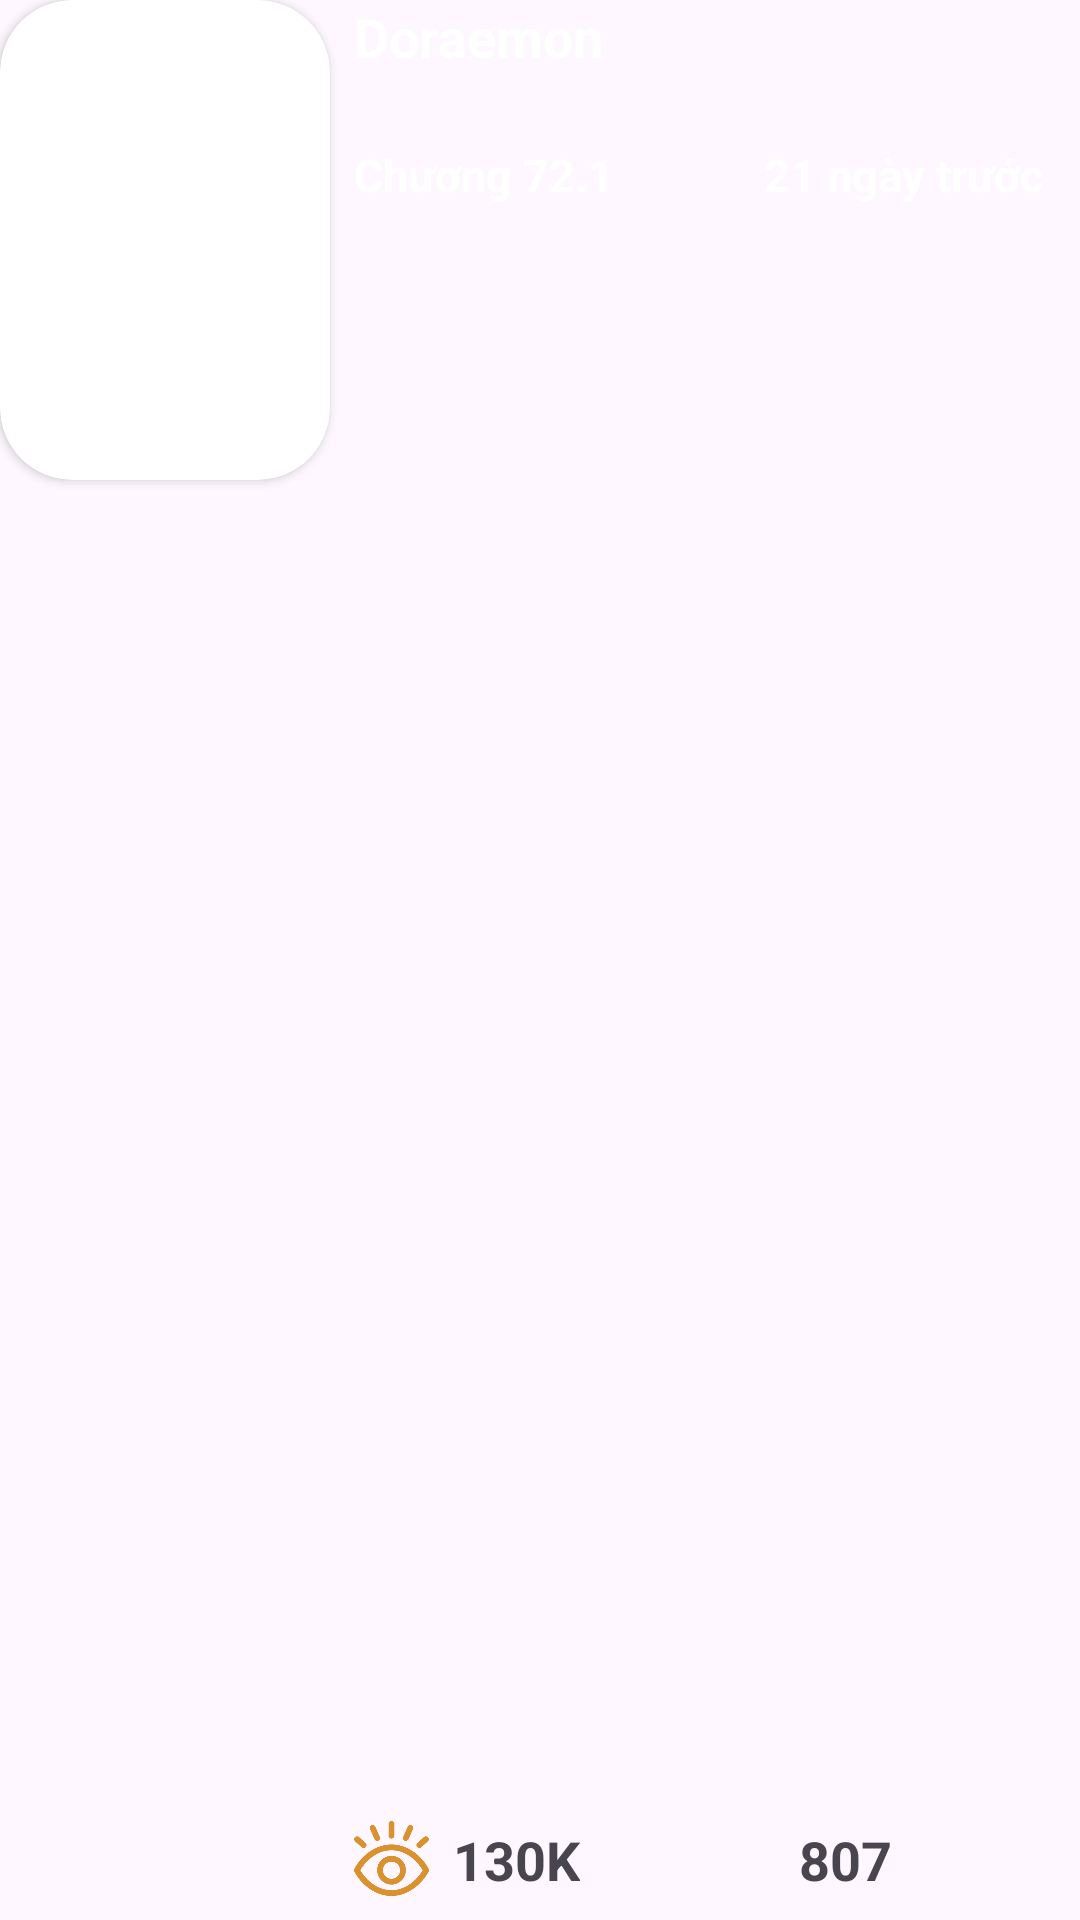

Icons on this 1080x1920 Android screen, each with the point to tap as [x,y]:
eye: [391,1858]
